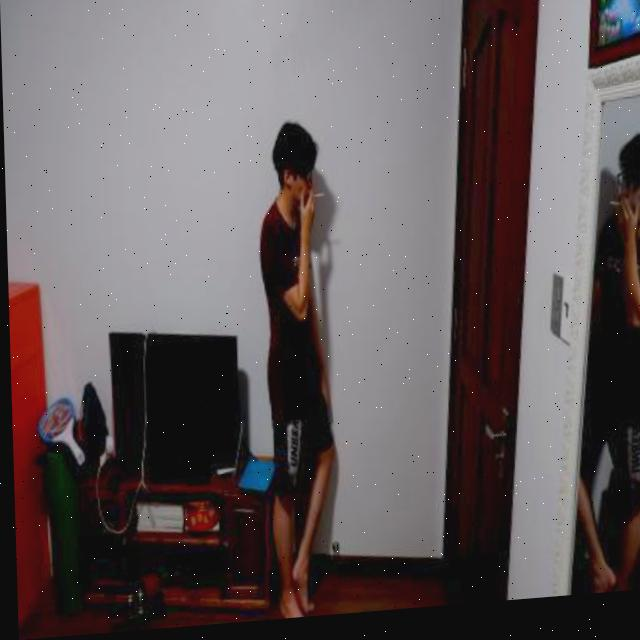cigarette: (312, 198, 324, 204)
